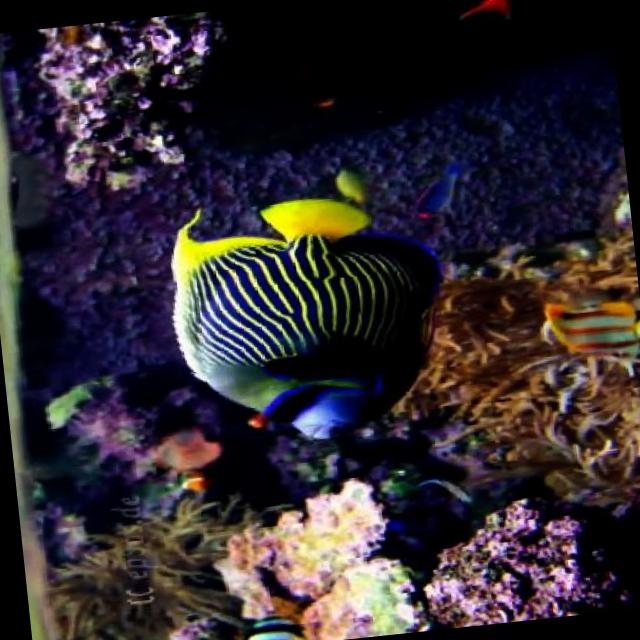AngelFish: (160, 184, 456, 453)
